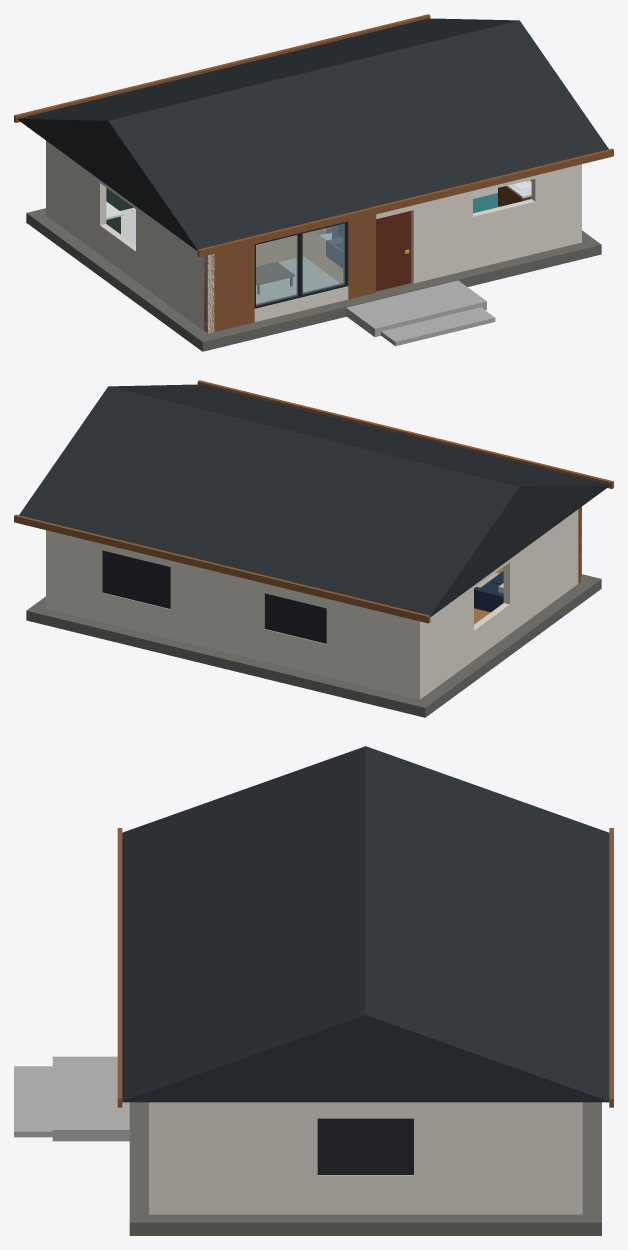
Rendered from modern_house_interior.obj.
The picture shows the model from 3 angles, top to bottom: view 1: azimuth 30°, elevation 25°; view 2: azimuth 150°, elevation 25°; view 3: azimuth 270°, elevation 25°; orthographic projection. The views are drawn at different scales.
Parts seen in each view (by area): view 1: Roof_Pitched_Gable, Foundation, ExtWall_West_Front, Glass_LivingWindow, ExtWall_South_MidRight, ExtWall_West_Back, Porch_Deck, ExtWall_South_LeftCorner, ExtWall_South_RightCorner, Roof_Fascia_South, ExtWall_South_BathWinLow, Door_Front_Panel (+9 smaller); view 2: Roof_Pitched_Gable, Foundation, ExtWall_North_Left, ExtWall_North_Mid, ExtWall_West_Front, ExtWall_North_Right, ExtWall_West_Back, Roof_Fascia_North, Frame_BedWinNorth, Frame_KitchenWin, Roof_Fascia_South, ExtWall_North_WinLow1 (+4 smaller); view 3: Roof_Pitched_Gable, ExtWall_East_Front, ExtWall_East_Back, Foundation, Porch_Deck, Frame_BedWinEast, ExtWall_East_WinLow, Porch_Steps, Roof_Fascia_South, ExtWall_East_WinHigh, Roof_Fascia_North, ExtWall_North_Right (+1 smaller).
Boxes of the visible parts, x1=… form: Roof_Pitched_Gable: x1=17, y1=18, x2=608, y2=250; Foundation: x1=26, y1=208, x2=601, y2=351; ExtWall_West_Front: x1=136, y1=206, x2=214, y2=333; Glass_LivingWindow: x1=256, y1=223, x2=344, y2=305; ExtWall_South_MidRight: x1=411, y1=191, x2=472, y2=283; ExtWall_West_Back: x1=46, y1=141, x2=106, y2=254; Porch_Deck: x1=346, y1=280, x2=486, y2=336; ExtWall_South_LeftCorner: x1=204, y1=244, x2=254, y2=333; ExtWall_South_RightCorner: x1=531, y1=164, x2=581, y2=253; Roof_Fascia_South: x1=197, y1=148, x2=613, y2=257; ExtWall_South_BathWinLow: x1=473, y1=199, x2=535, y2=268; Door_Front_Panel: x1=376, y1=211, x2=410, y2=291; Roof_Pitched_Gable: x1=19, y1=384, x2=610, y2=616; Foundation: x1=26, y1=574, x2=601, y2=717; ExtWall_North_Left: x1=326, y1=599, x2=423, y2=699; ExtWall_North_Mid: x1=170, y1=560, x2=264, y2=661; ExtWall_West_Front: x1=503, y1=509, x2=581, y2=633; ExtWall_North_Right: x1=46, y1=530, x2=102, y2=621; ExtWall_West_Back: x1=413, y1=586, x2=473, y2=698; Roof_Fascia_North: x1=14, y1=514, x2=430, y2=623; Frame_BedWinNorth: x1=102, y1=550, x2=170, y2=608; Frame_KitchenWin: x1=264, y1=593, x2=326, y2=643; Roof_Fascia_South: x1=197, y1=380, x2=613, y2=488; ExtWall_North_WinLow1: x1=264, y1=629, x2=326, y2=676; Roof_Pitched_Gable: x1=122, y1=746, x2=609, y2=1102; ExtWall_East_Front: x1=149, y1=1102, x2=317, y2=1214; ExtWall_East_Back: x1=414, y1=1102, x2=582, y2=1214; Foundation: x1=129, y1=1102, x2=601, y2=1235; Porch_Deck: x1=52, y1=1056, x2=129, y2=1141; Frame_BedWinEast: x1=317, y1=1118, x2=413, y2=1174; ExtWall_East_WinLow: x1=317, y1=1175, x2=413, y2=1214; Porch_Steps: x1=14, y1=1066, x2=52, y2=1137; Roof_Fascia_South: x1=117, y1=828, x2=122, y2=1107; ExtWall_East_WinHigh: x1=317, y1=1102, x2=413, y2=1118; Roof_Fascia_North: x1=609, y1=828, x2=613, y2=1107; ExtWall_North_Right: x1=573, y1=1102, x2=582, y2=1214.
Bounding box in the file's own units: 13.3 × 5.15 × 12.45.
